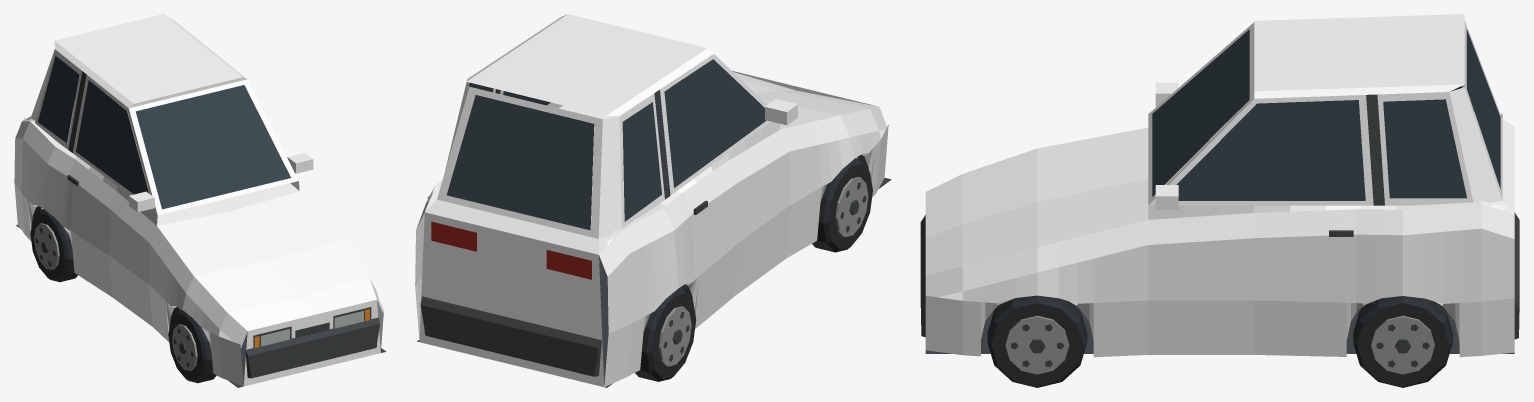
The model's file is kanaya_yuzuki.glb.
3 views of the same model, side by side, from view 1: azimuth 30°, elevation 25°; view 2: azimuth 150°, elevation 25°; view 3: azimuth 270°, elevation 25° (orthographic). The views are drawn at different scales.
Parts seen in each view (by area): view 1: kanaya_yuzuki; view 2: kanaya_yuzuki; view 3: kanaya_yuzuki.
Part boxes in pixels (x1=…): kanaya_yuzuki: x1=14, y1=14, x2=386, y2=387; kanaya_yuzuki: x1=415, y1=14, x2=891, y2=387; kanaya_yuzuki: x1=920, y1=14, x2=1519, y2=387.
Bounding box in the file's own units: 1.43 × 1.66 × 3.16.
Materials: 8 (1 with a texture image).
